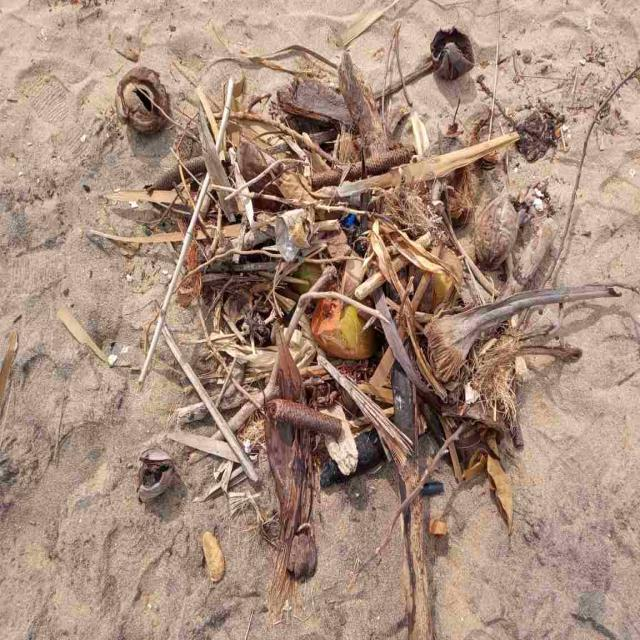rac_huu_co: (116, 0, 622, 640)
